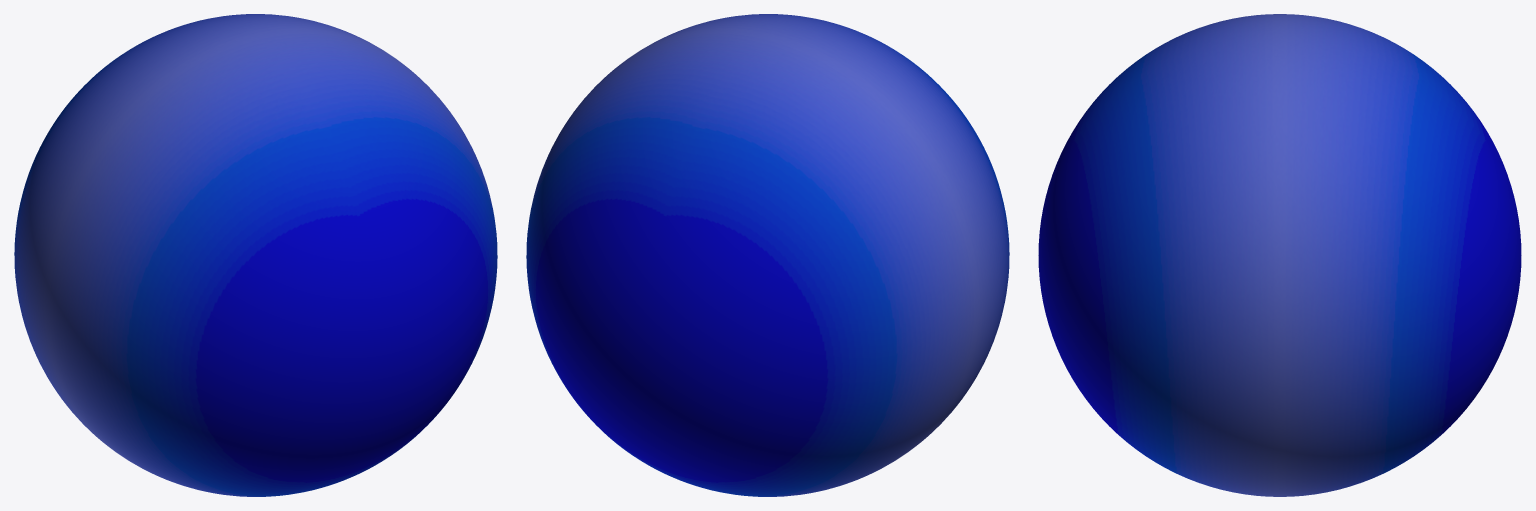
Rendered from Earth.obj.
The picture shows the model from 3 angles, left to right: view 1: azimuth 30°, elevation 25°; view 2: azimuth 150°, elevation 25°; view 3: azimuth 270°, elevation 25°; orthographic projection.
Parts seen in each view (by area): view 1: Sphere001; view 2: Sphere001; view 3: Sphere001.
Boxes of the visible parts, x1,y1,x2,y2 form: Sphere001: [14, 14, 497, 496]; Sphere001: [526, 14, 1009, 496]; Sphere001: [1038, 14, 1521, 496].
Size of the model in its own units: 201 by 201 by 201.
